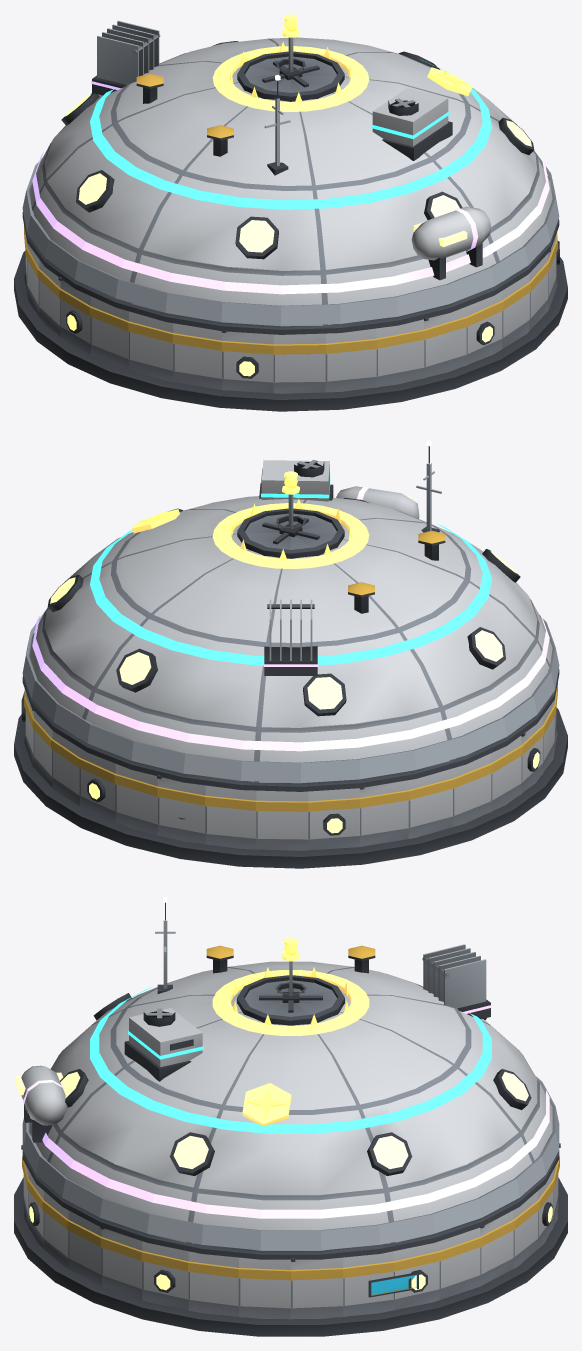
Rendered from habitat.glb.
3 renders of one model, top to bottom at view 1: azimuth 30°, elevation 25°; view 2: azimuth 150°, elevation 25°; view 3: azimuth 270°, elevation 25°, orthographic.
Visible parts, largest first — view 1: Roof, Base, L3, L4, L5, Wall_21, Wall_20, Wall_22, Wall_19, Wall_23, Wall_18, Wall_24 (+26 smaller); view 2: Roof, Base, L3, L5, L4, Wall_10, Wall_11, Wall_09, Wall_12, Wall_08, Wall_13, Wall_07 (+22 smaller); view 3: Roof, Base, L3, L4, L5, Wall_31, Wall_00, Wall_30, Wall_29, Wall_01, Wall_28, Wall_02 (+22 smaller).
Boxes of the visible parts, x1,y1,x2,y2 form: Roof: (22, 37, 559, 334); Base: (14, 251, 567, 411); L3: (90, 58, 491, 209); L4: (91, 20, 491, 280); L5: (212, 14, 472, 112); Wall_21: (273, 333, 325, 393); Wall_20: (221, 330, 273, 393); Wall_22: (325, 328, 376, 392); Wall_19: (172, 323, 222, 389); Wall_23: (376, 319, 424, 387); Wall_18: (128, 311, 173, 381); Wall_24: (424, 307, 467, 378); Roof: (22, 496, 559, 791); Base: (14, 708, 567, 868); L3: (90, 460, 491, 665); L5: (132, 471, 369, 568); L4: (263, 486, 419, 675); Wall_10: (256, 790, 308, 850); Wall_11: (308, 788, 360, 850); Wall_09: (205, 785, 256, 849); Wall_12: (359, 780, 409, 846); Wall_08: (157, 775, 205, 844); Wall_13: (408, 768, 453, 838); Wall_07: (114, 764, 157, 835); Roof: (22, 945, 559, 1259); Base: (14, 1177, 567, 1336); L3: (90, 982, 491, 1133); L4: (15, 944, 491, 1142); L5: (212, 937, 369, 1126); Wall_31: (238, 1257, 290, 1319); Wall_00: (291, 1257, 343, 1319); Wall_30: (188, 1251, 238, 1316); Wall_29: (141, 1241, 188, 1310); Wall_01: (343, 1251, 393, 1316); Wall_28: (100, 1226, 142, 1299); Wall_02: (393, 1241, 440, 1310).
Bounding box in the file's own units: 10.73 × 6.08 × 10.73.
